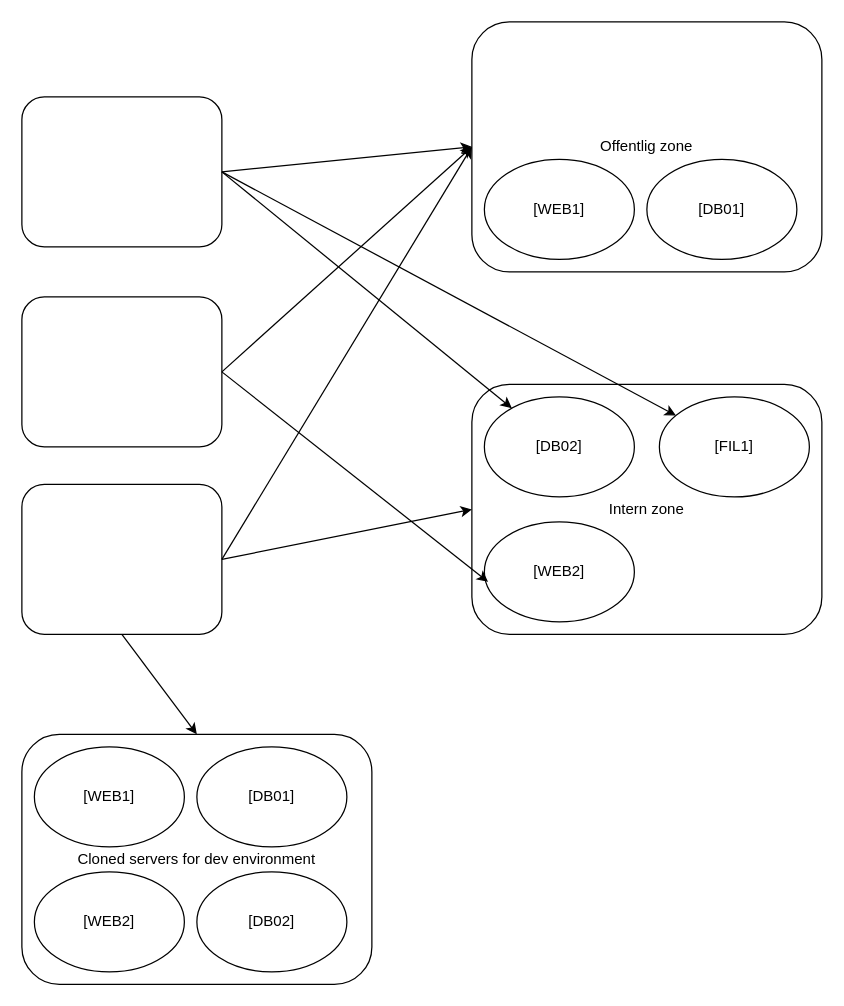
This 844x1006 diagram has some shape labels left out. The shapes that lost their labels are listed below. From the top down, each one's centre as x and y in pixels, then its label:
At (121,171): "Sales team 50 hosts Subnet: 192.168.2.0/26".
At (121,371): "Technical support team 10 hosts Subnet: 192.168.2.64/28".
At (121,558): "Development team 10 hosts Subnet: 192.168.2.64/28".
